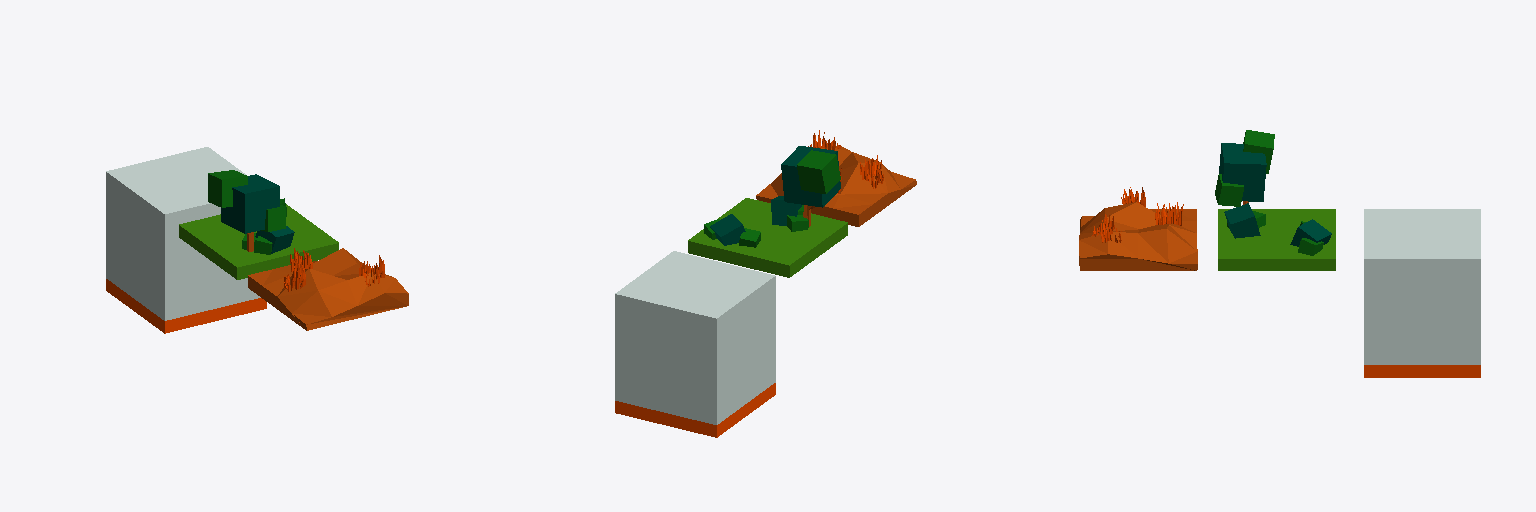
3 renders of one model, left to right at view 1: azimuth 30°, elevation 25°; view 2: azimuth 150°, elevation 25°; view 3: azimuth 270°, elevation 25°, orthographic.
Parts seen in each view (by area): view 1: group[number redacted], group[number redacted], group[number redacted], group[number redacted], group[number redacted], group[number redacted]; view 2: group[number redacted], group[number redacted], group[number redacted], group[number redacted], group[number redacted], group[number redacted]; view 3: group[number redacted], group[number redacted], group[number redacted], group[number redacted], group[number redacted], group[number redacted].
Part boxes in pixels (x1,y1,x2,y2): group[number redacted]: (106,147,260,320); group[number redacted]: (248,248,408,330); group[number redacted]: (179,198,338,279); group[number redacted]: (208,170,285,251); group[number redacted]: (106,279,266,333); group[number redacted]: (284,248,384,291); group[number redacted]: (615,251,775,424); group[number redacted]: (688,196,847,277); group[number redacted]: (756,146,916,226); group[number redacted]: (781,146,840,226); group[number redacted]: (615,383,775,437); group[number redacted]: (808,130,883,197); group[number redacted]: (1364,209,1480,364); group[number redacted]: (1218,203,1335,270); group[number redacted]: (1079,202,1197,270); group[number redacted]: (1215,130,1274,206); group[number redacted]: (1364,365,1480,377); group[number redacted]: (1092,187,1183,242).
Bounding box in the file's own units: 0.1787 × 0.3233 × 0.5814.